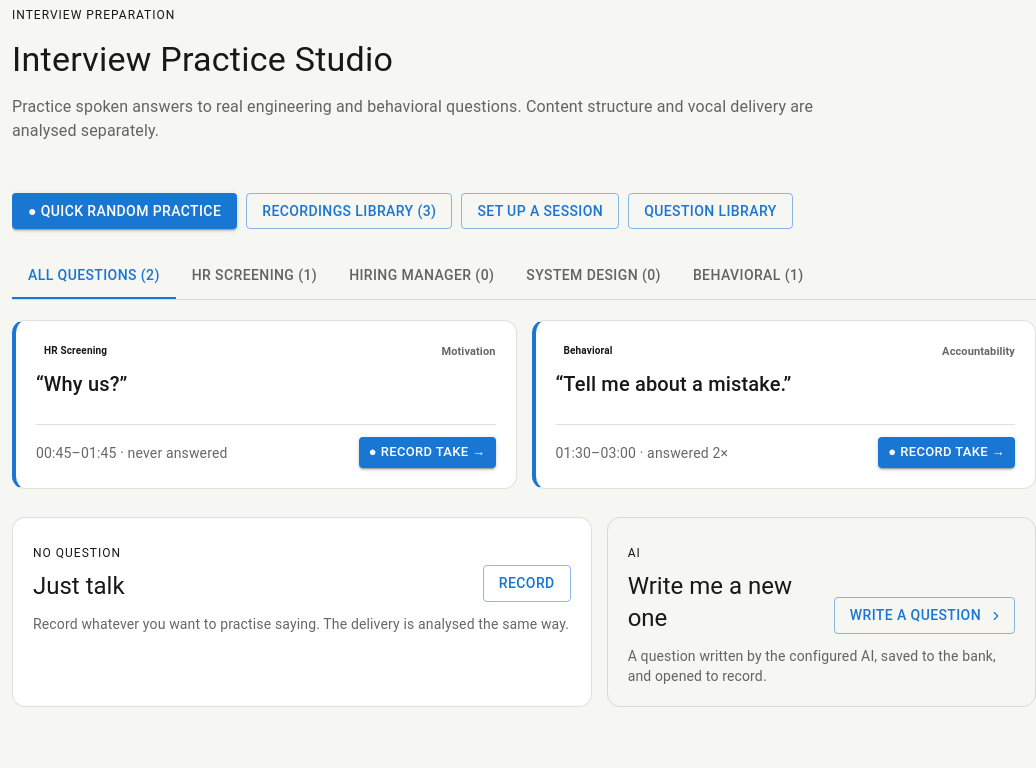
it: InterviewPracticeSetupPage › files the questions under their rounds, with counts
This screenshot has width=1036, height=768.
expect the element "Why us?" is shown: met, box top-left (12, 320), bottom-right (516, 489)
expect the tab "Hiring Manager (0)" is shown: met, box top-left (333, 251), bottom-right (510, 299)
Click the tab "Behavioral (1)". click: (748, 275)
box: top-left (677, 251), bottom-right (820, 299)
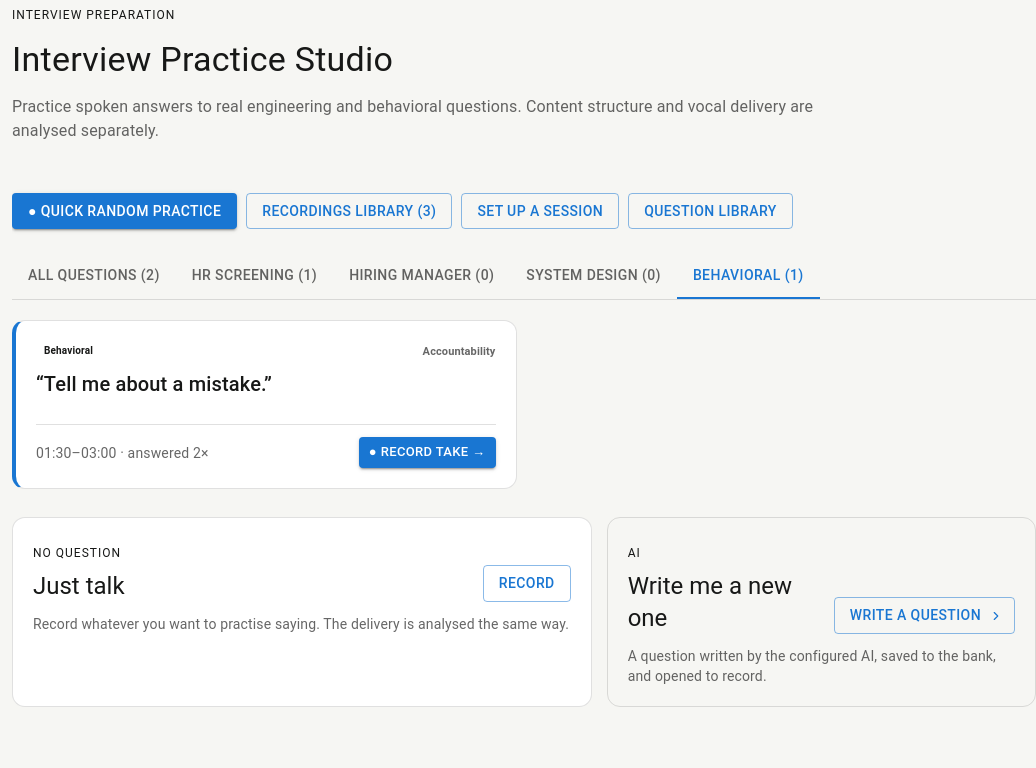
expect the element "Tell me about a mistake." is shown: met, box top-left (12, 320), bottom-right (516, 489)
expect the heading "Why us?" is gone: met
Click the tab "Hiring Manager (0)". click: (422, 275)
box: top-left (333, 251), bottom-right (510, 299)
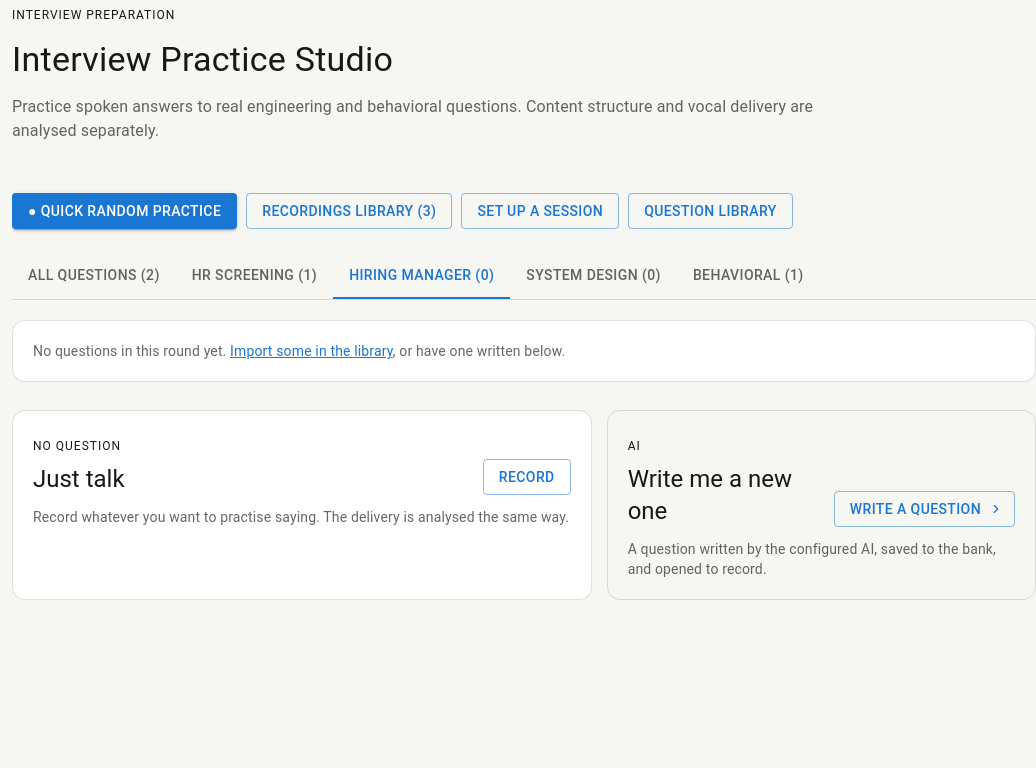
expect the text "No questions in this round yet" is shown: met, box top-left (33, 343), bottom-right (226, 359)
